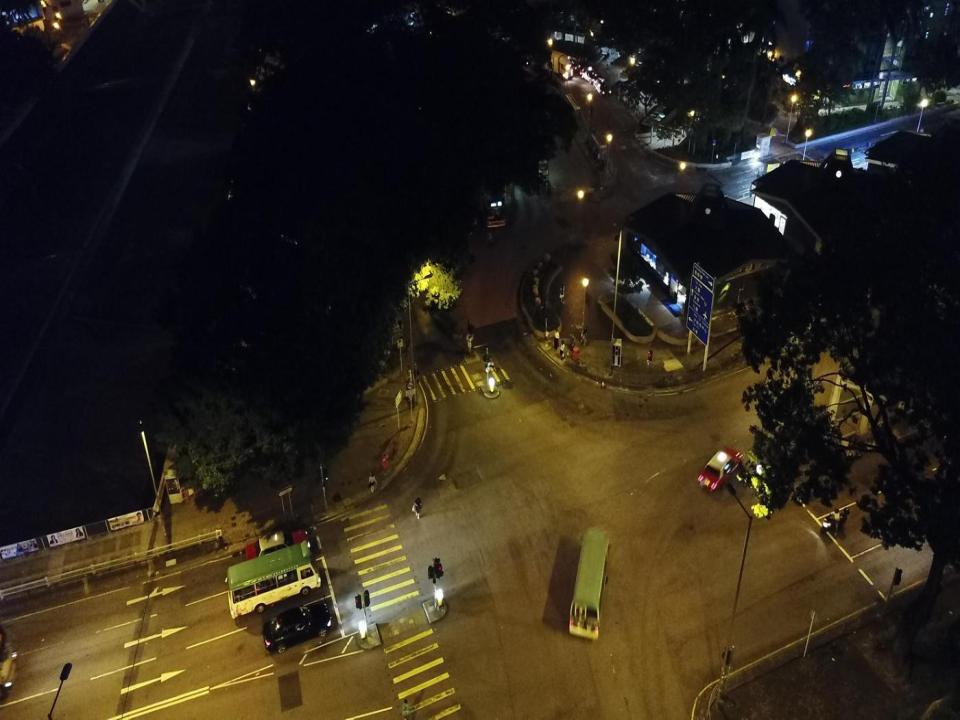bus: (224, 539, 322, 619), (568, 527, 609, 641)
car: (262, 600, 333, 654), (244, 528, 309, 572), (697, 445, 744, 492), (592, 77, 612, 97), (579, 65, 600, 84), (562, 53, 581, 72)
truck: (533, 46, 574, 80)
